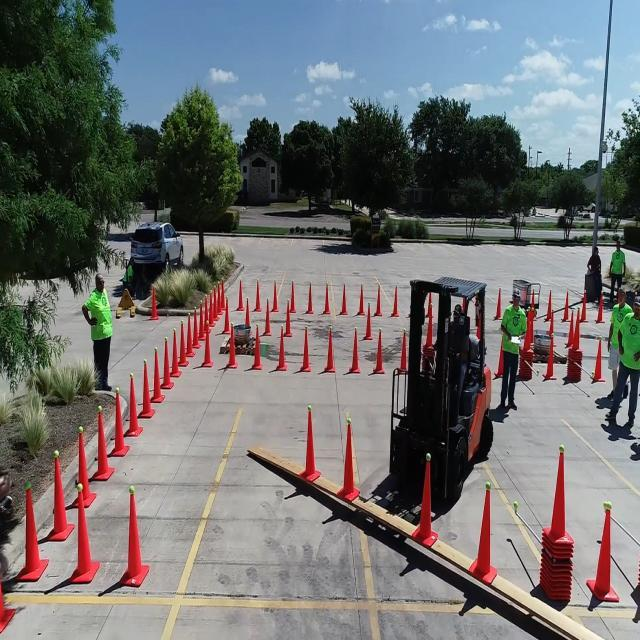forklift: (387, 270, 492, 495)
person: (500, 284, 526, 418), (82, 274, 112, 378), (619, 298, 640, 430), (610, 293, 624, 376), (610, 234, 626, 294)
